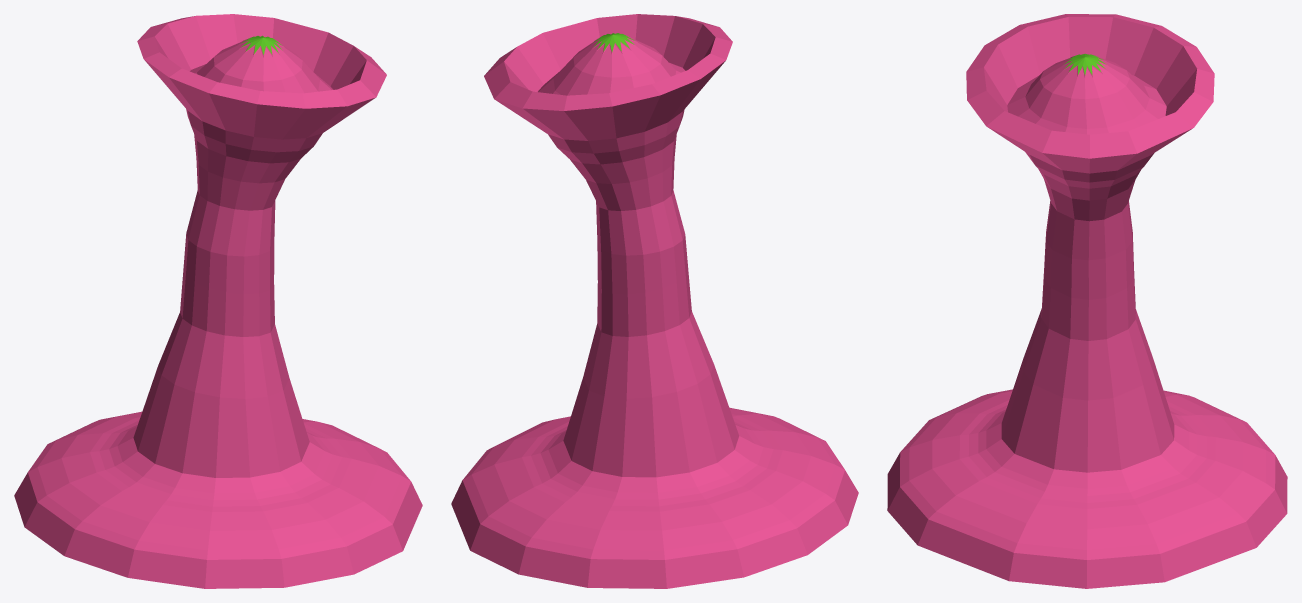
Rendered from uploads_files_3138814_Under+Water+Plants-stem.fbx.
3 views of the same model, side by side, from view 1: azimuth 30°, elevation 25°; view 2: azimuth 150°, elevation 25°; view 3: azimuth 270°, elevation 25° (orthographic).
Parts seen in each view (by area): view 1: Stem; view 2: Stem; view 3: Stem.
Part boxes in pixels (bbox=[...]): Stem: bbox=[14, 14, 422, 588]; Stem: bbox=[451, 14, 858, 588]; Stem: bbox=[887, 14, 1287, 588].
Bounding box in the file's own units: 588 × 750 × 583.
